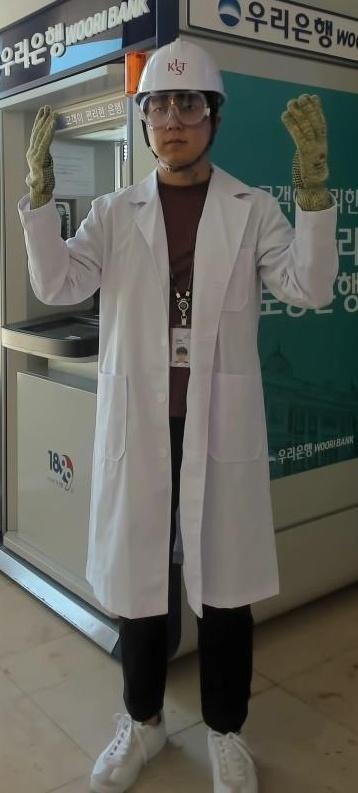lab_coat: (87, 207, 285, 615)
